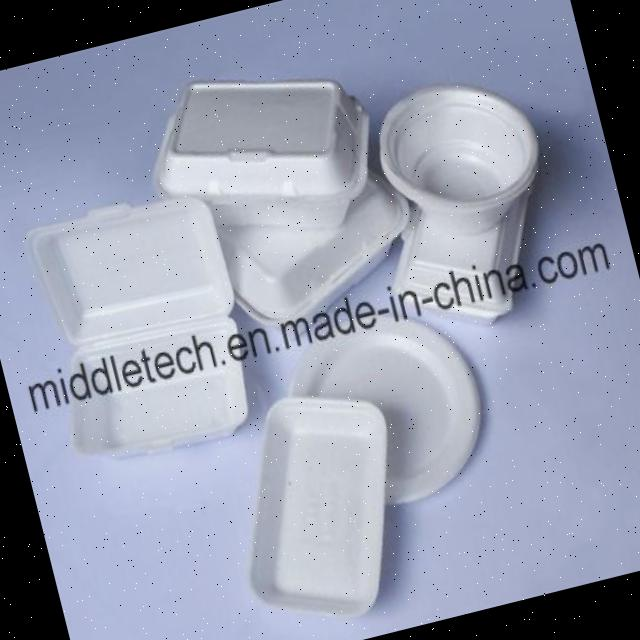styrofoam: (16, 178, 268, 474), (342, 59, 578, 344), (130, 38, 393, 268), (207, 373, 430, 640)
